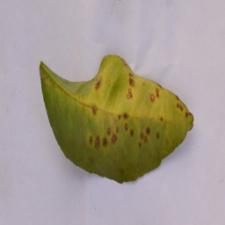Canker: (77, 62, 195, 178)
